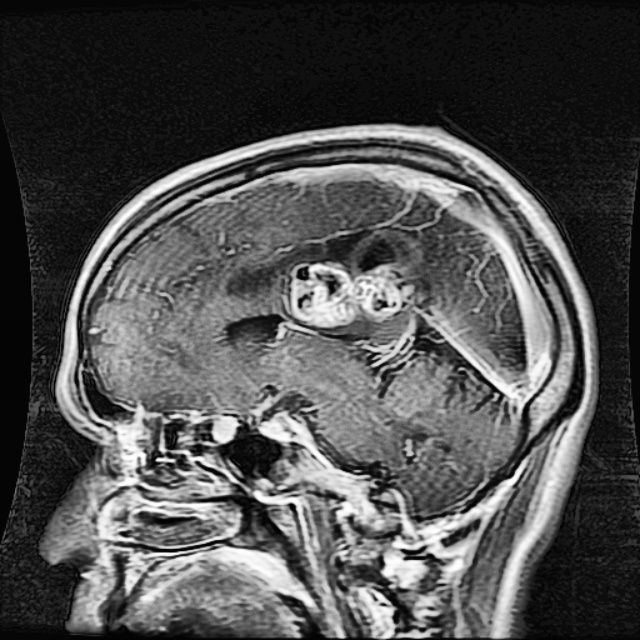Meningioma: (289, 260, 415, 325)
